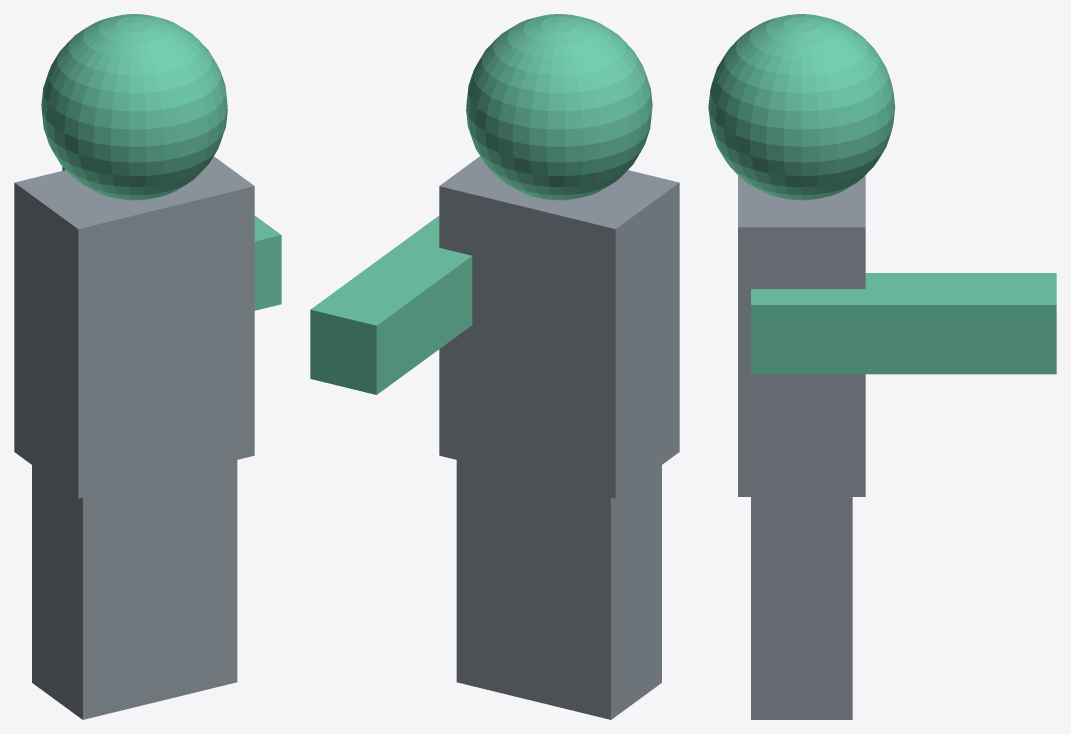
Rendered from CO_JieTechnician_LOD0.glb.
3 renders of one model, left to right at view 1: azimuth 30°, elevation 25°; view 2: azimuth 150°, elevation 25°; view 3: azimuth 270°, elevation 25°, orthographic.
Visible parts, largest first — view 1: Head; view 2: Head; view 3: Head.
Part boxes in pixels (x1,y1,x2,y2): Head: (14, 14, 281, 719); Head: (310, 14, 679, 719); Head: (708, 14, 1056, 719).
Bounding box in the file's own units: 57 × 171 × 82.
